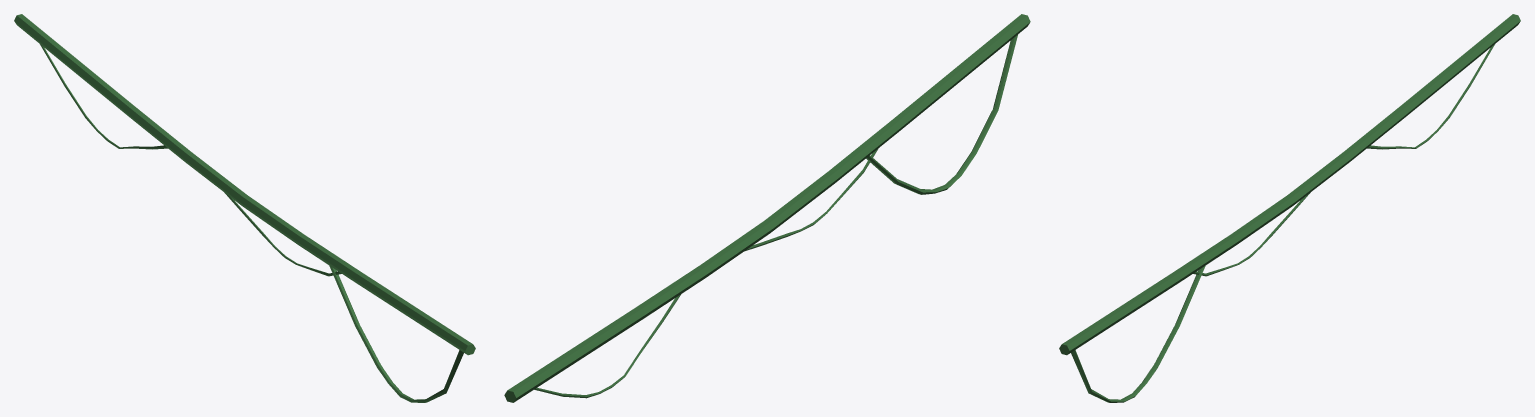
Rendered from Vine.fbx.
3 renders of one model, left to right at view 1: azimuth 30°, elevation 25°; view 2: azimuth 150°, elevation 25°; view 3: azimuth 330°, elevation 25°, orthographic. The views are drawn at different scales.
Visible parts, largest first — view 1: Vine; view 2: Vine; view 3: Vine.
Boxes of the visible parts, box(x1,y1,x2,y2) form: Vine: box(14, 14, 475, 402); Vine: box(504, 14, 1030, 402); Vine: box(1059, 14, 1520, 402).
Size of the model in its own units: 5.7 by 52.19 by 416.
